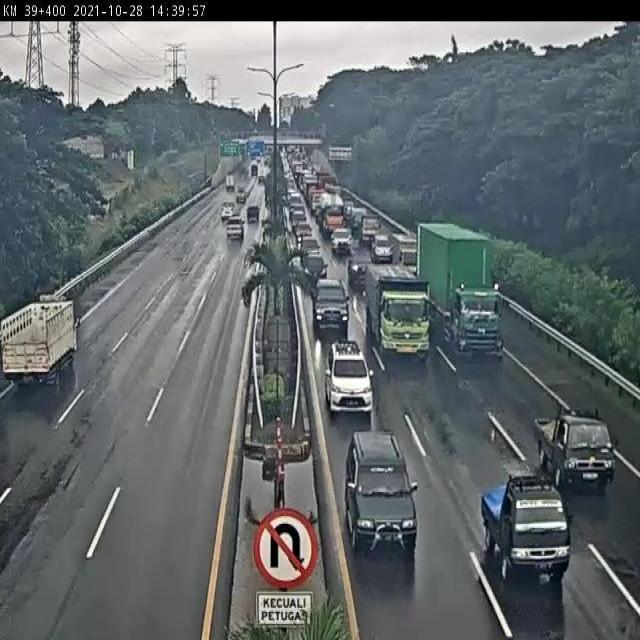big truck: (418, 222, 495, 350), (364, 264, 426, 348)
car: (480, 475, 572, 580), (344, 433, 413, 548), (534, 409, 617, 488), (323, 340, 374, 413), (311, 279, 349, 328), (302, 251, 326, 285), (359, 213, 381, 247), (348, 249, 370, 280), (372, 232, 394, 259), (330, 225, 349, 251)
mid truck: (0, 290, 82, 386)
small truck: (392, 231, 420, 268)
